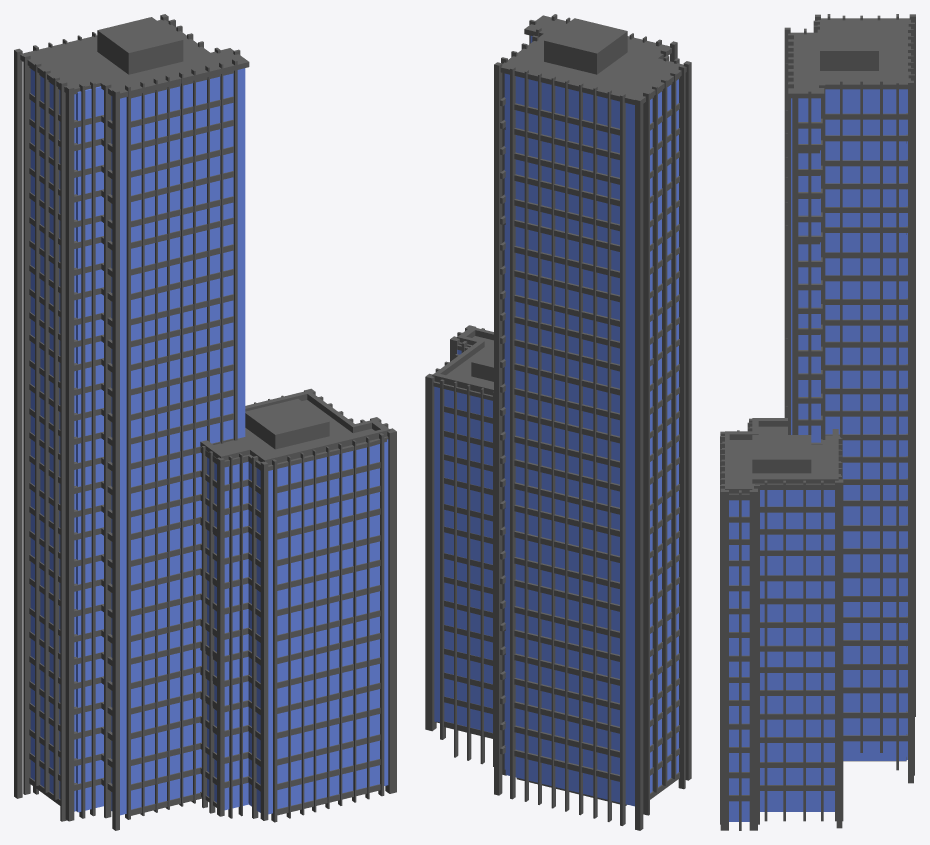
File: HighpolyBuilding.fbx
The picture shows the model from 3 angles, left to right: view 1: azimuth 30°, elevation 25°; view 2: azimuth 150°, elevation 25°; view 3: azimuth 270°, elevation 25°; orthographic projection. The views are drawn at different scales.
Parts seen in each view (by area): view 1: pCube4; view 2: pCube4; view 3: pCube4.
Part boxes in pixels (box(x1,y1,x2,y2)): pCube4: box(14, 14, 396, 830); pCube4: box(425, 14, 691, 830); pCube4: box(720, 14, 915, 830).
Bounding box in the file's own units: 0.2577 × 0.6813 × 0.1664.
